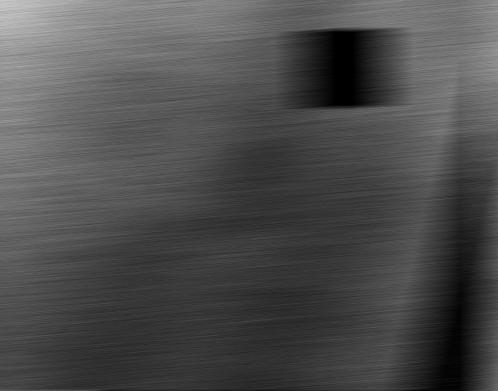Airbag: (0, 1, 498, 390), (483, 1, 498, 390)
